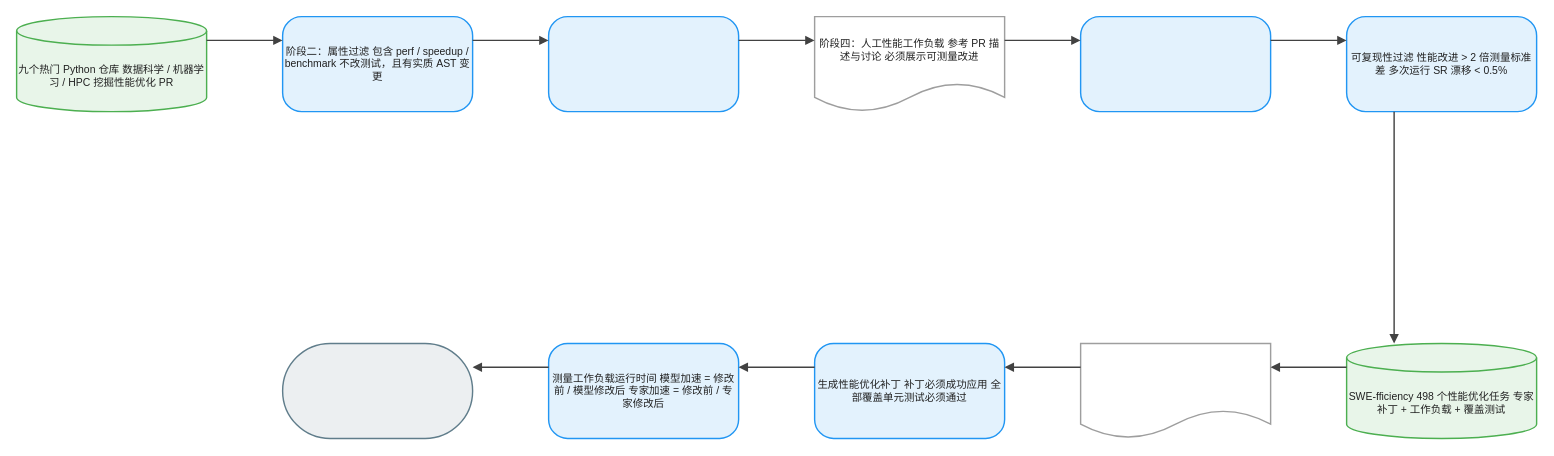
Some shapes in this 1554 by 456 pixel diagram are drawn without their labels. Here are the shapes that lost their labels. From the top down, the centre of each, then its label:
At pixel 643 63: "阶段三：覆盖正确性测试 固定依赖 Docker + coverage.py 动态行覆盖 + 静态符号解析".
At pixel 1175 63: "阶段五：受控执行 容器化 + 资源固定 运行单元测试与性能负载".
At pixel 377 390: "加速比率 SR = 模型加速 / 专家加速 用调和平均数聚合".
At pixel 1175 390: "智能体接收完整代码库 慢速性能工作负载 定位瓶颈与相关测试".
